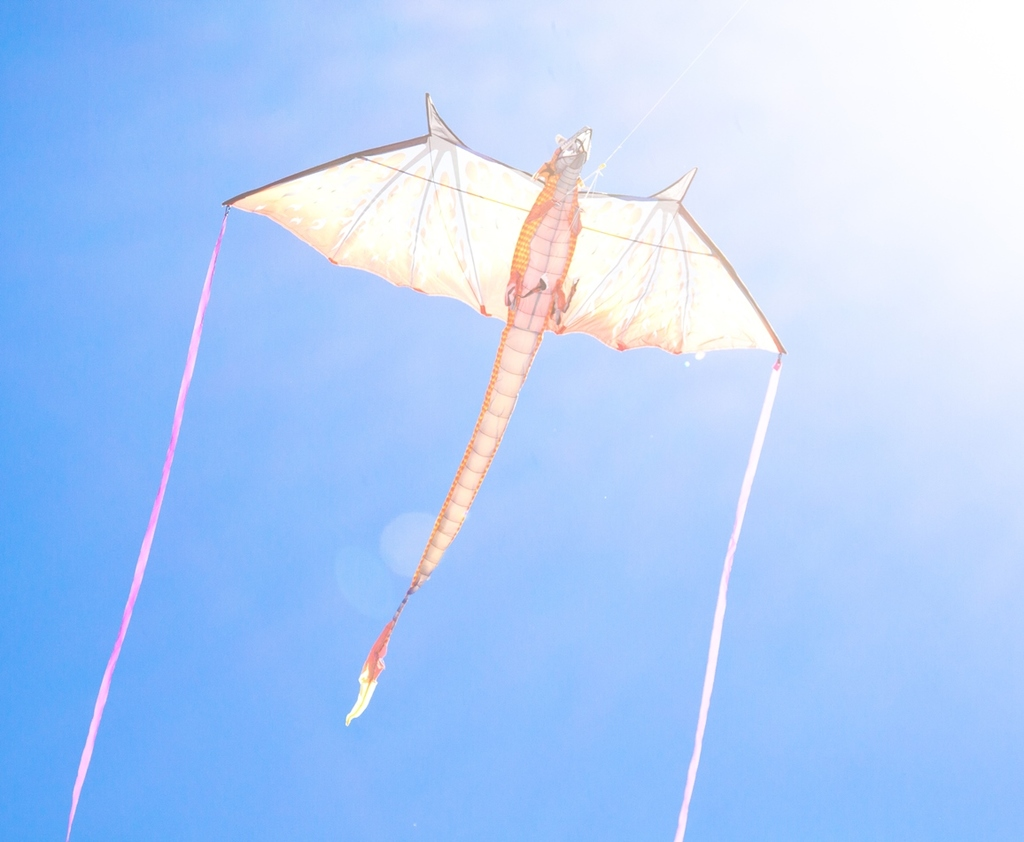kite: (56, 82, 800, 842)
